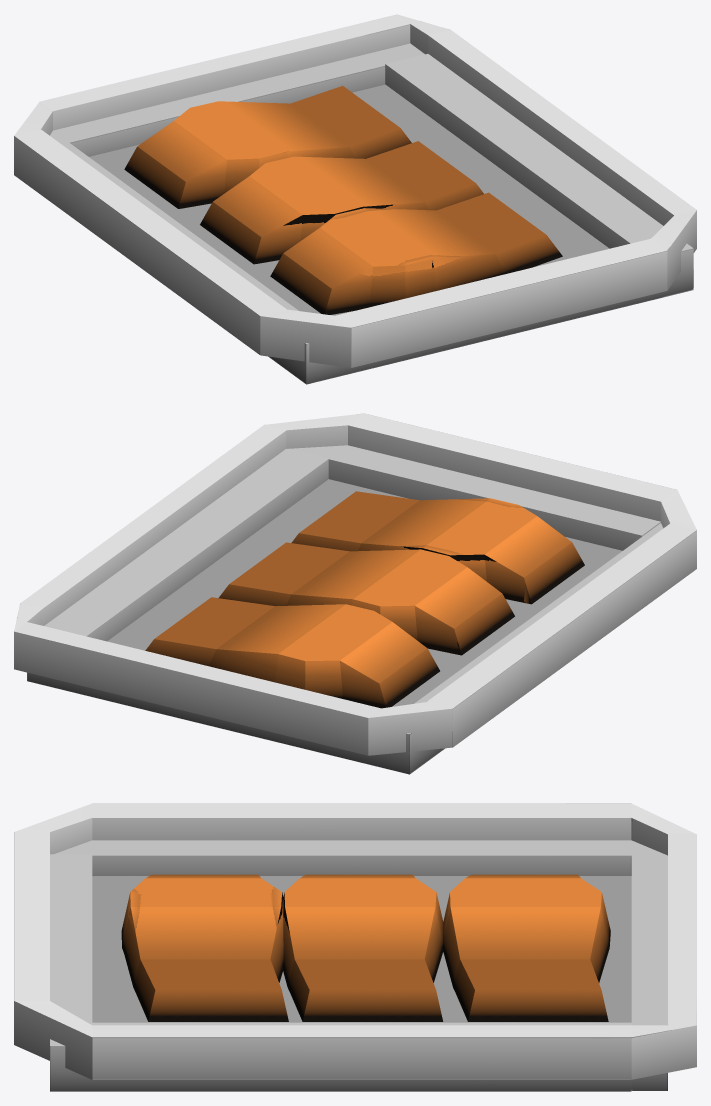
Rendered from Salmon.glb.
The picture shows the model from 3 angles, top to bottom: view 1: azimuth 30°, elevation 25°; view 2: azimuth 150°, elevation 25°; view 3: azimuth 270°, elevation 25°; orthographic projection. The views are drawn at different scales.
Parts seen in each view (by area): view 1: Cube, Plane, Plane.002, Plane.001; view 2: Cube, Plane.002, Plane.001, Plane; view 3: Cube, Plane.002, Plane, Plane.001.
Part boxes in pixels (x1,y1,x2,y2): Cube: (14,14,696,384); Plane: (270,192,562,314); Plane.002: (124,85,411,208); Plane.001: (200,141,483,264); Cube: (14,413,696,774); Plane.002: (145,597,439,708); Plane.001: (218,542,514,655); Plane: (291,491,584,604); Cube: (14,803,696,1091); Plane.002: (443,874,610,1021); Plane: (121,874,288,1021); Plane.001: (283,874,443,1021).
Size of the model in its own units: 2.05 by 0.2772 by 2.53.
Materials: 2 (2 with a texture image).
